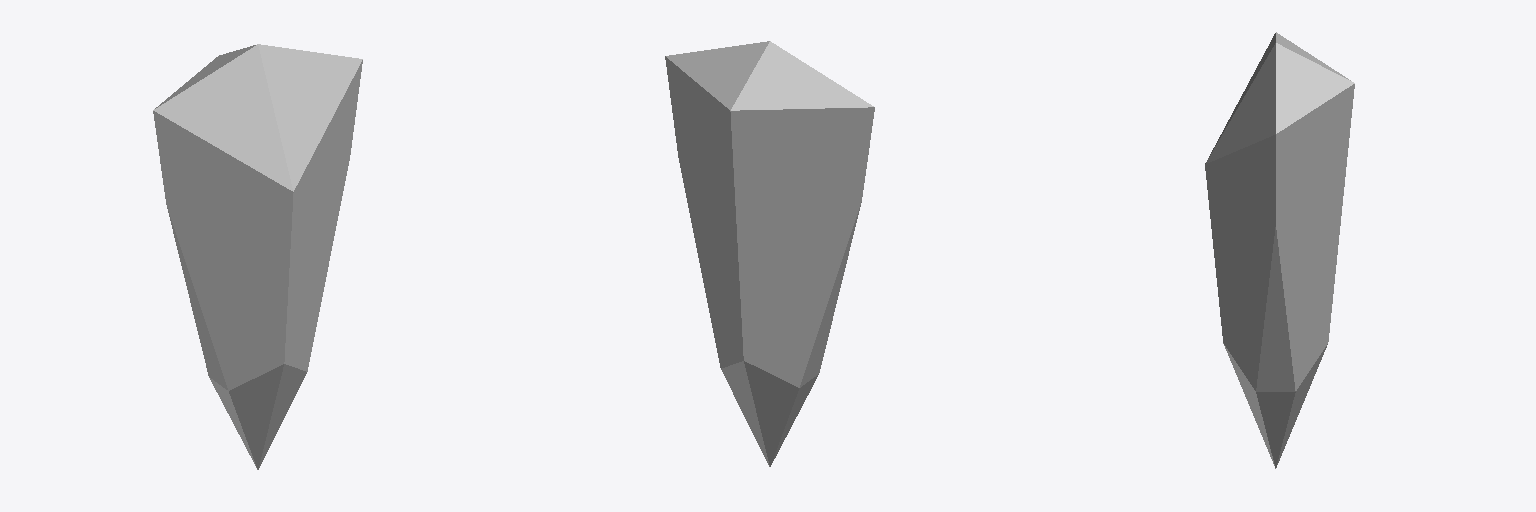
The model's file is Prop_Cliff_Rock_1.obj.
3 views of the same model, side by side, from view 1: azimuth 30°, elevation 25°; view 2: azimuth 150°, elevation 25°; view 3: azimuth 270°, elevation 25° (orthographic).
Parts seen in each view (by area): view 1: object1; view 2: object1; view 3: object1.
Part boxes in pixels (bbox=[...]): object1: bbox=[153, 44, 362, 469]; object1: bbox=[665, 41, 874, 466]; object1: bbox=[1205, 32, 1354, 468].
Bounding box in the file's own units: 1.08 × 2.1 × 0.6699.